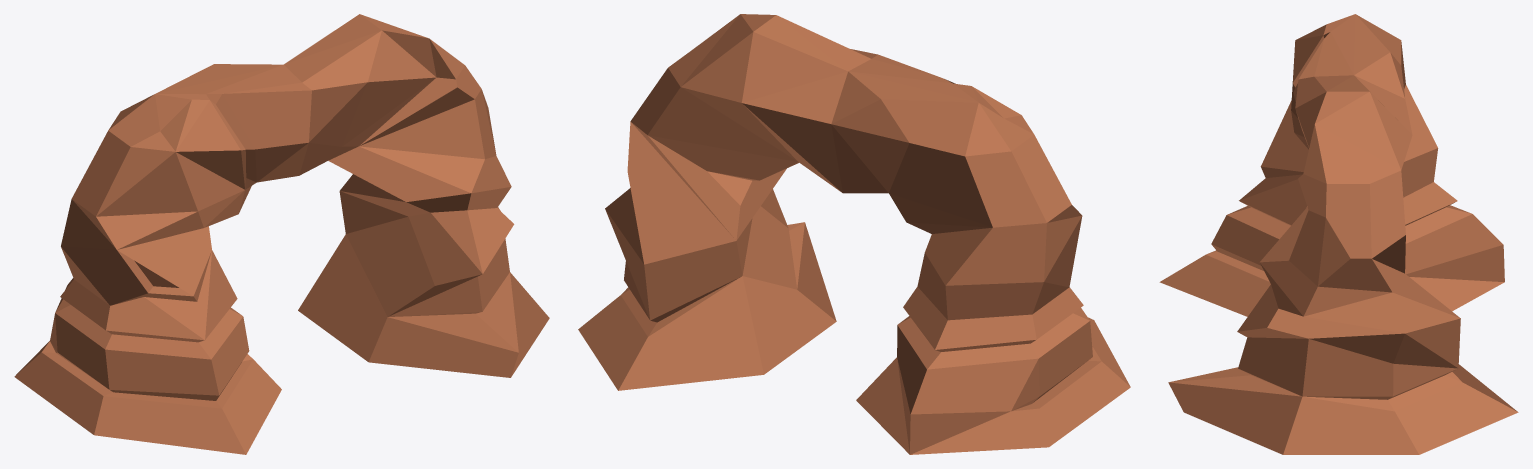
The model's file is Big_CaveRock_001.fbx.
The picture shows the model from 3 angles, left to right: view 1: azimuth 30°, elevation 25°; view 2: azimuth 150°, elevation 25°; view 3: azimuth 270°, elevation 25°; orthographic projection. The views are drawn at different scales.
Visible parts, largest first — view 1: Big_CaveRock_001; view 2: Big_CaveRock_001; view 3: Big_CaveRock_001.
Boxes of the visible parts, <box> form: Big_CaveRock_001: <box>14,14,549,454</box>; Big_CaveRock_001: <box>578,14,1130,454</box>; Big_CaveRock_001: <box>1159,14,1518,454</box>.
Bounding box in the file's own units: 15.53 × 9.85 × 10.87.
